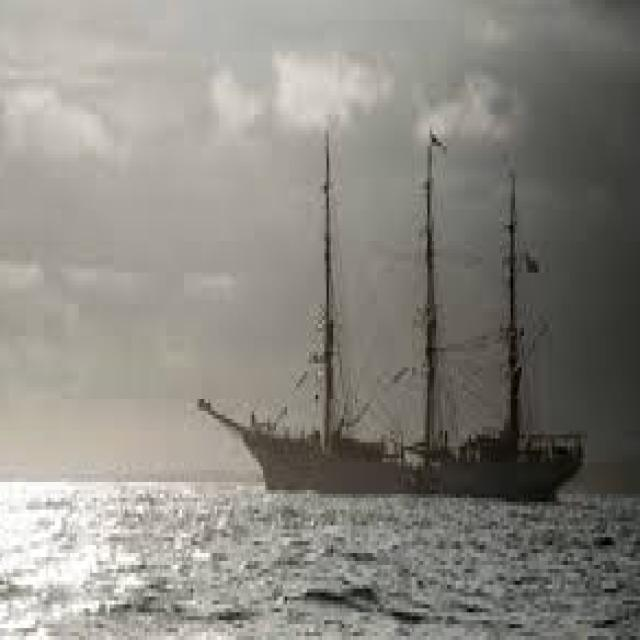fishing boat: (201, 128, 592, 505)
